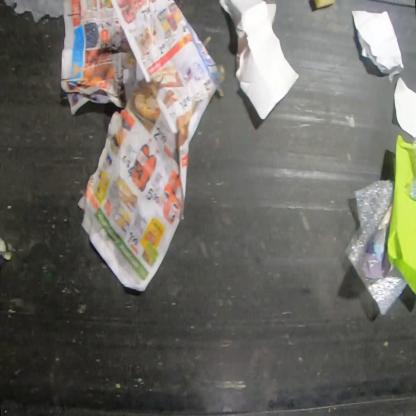soft_plastic: (344, 179, 408, 316)
